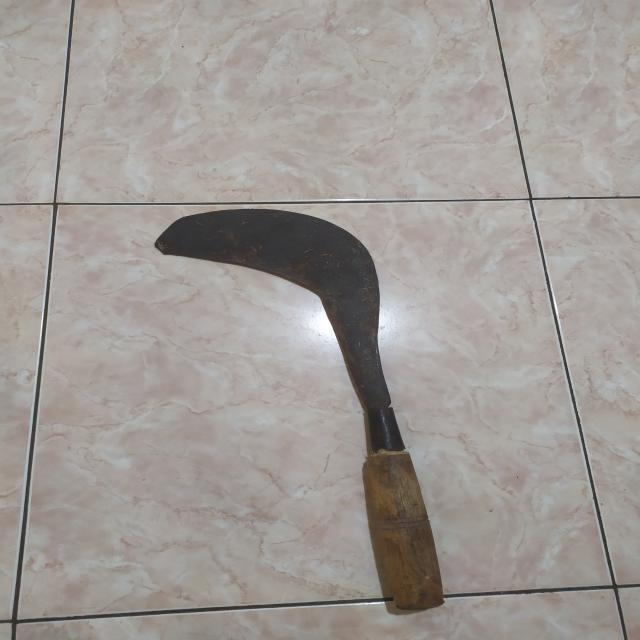Knife: (156, 207, 448, 618)
